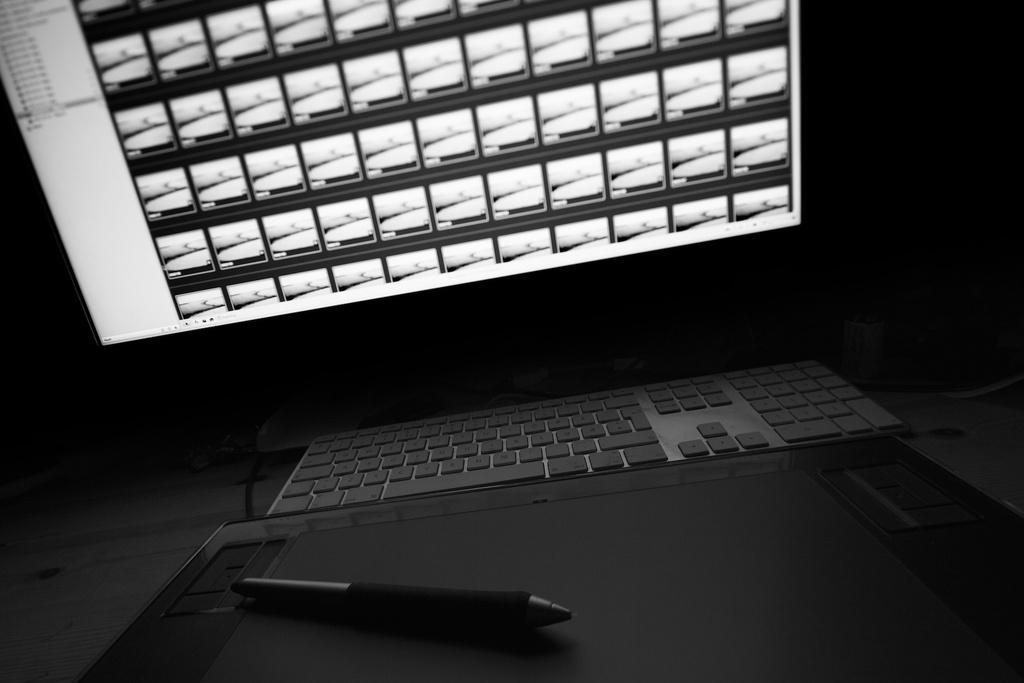Computer-keyboard: (265, 359, 911, 518)
